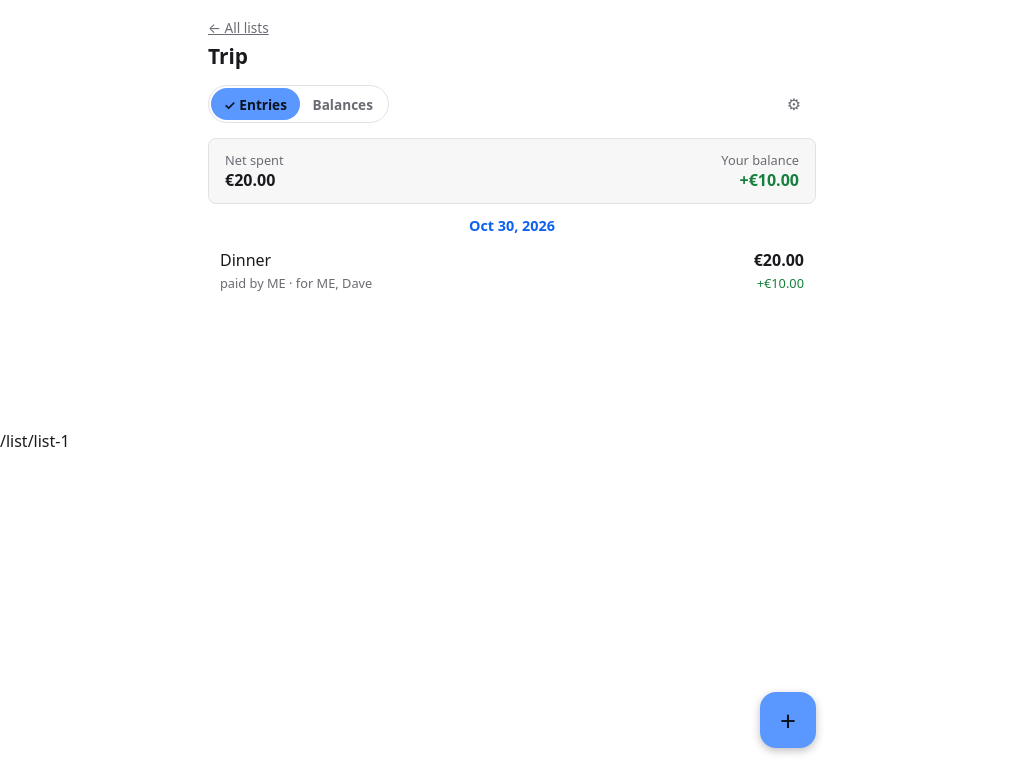
Scenario: the entry form with guests › names a guest in a refusal by its name, not its id
Click the button "Dinner".
click(246, 260)  # box [208,239,816,302]
(page scrolled)
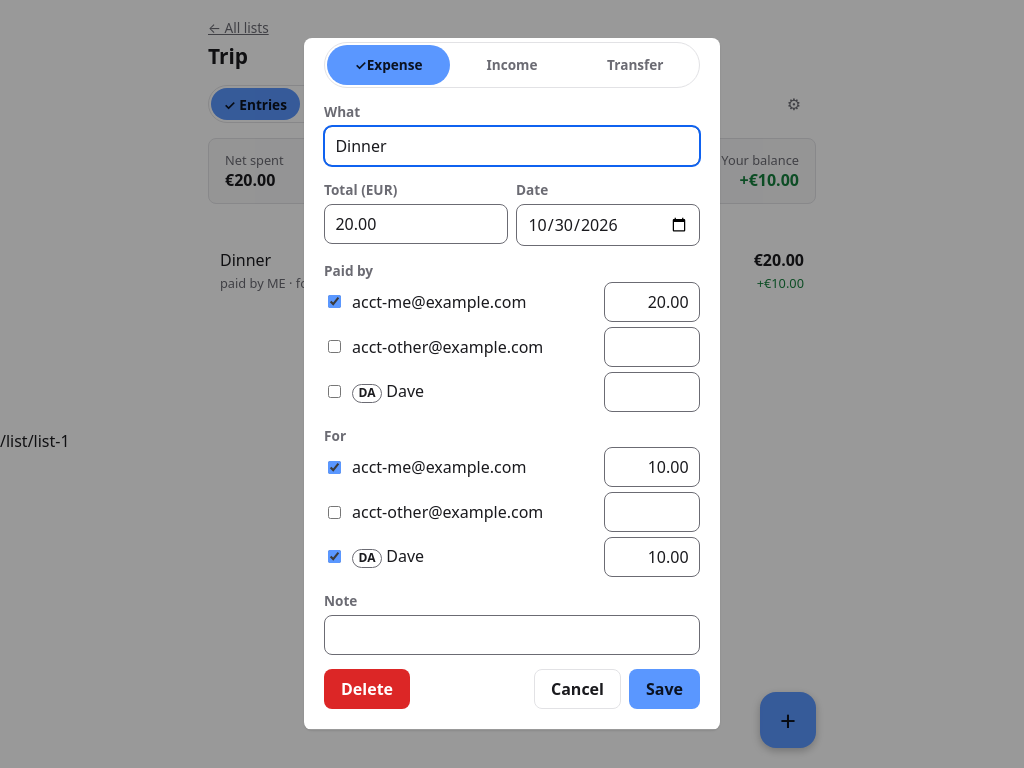
Click the button "Save".
click(664, 689)  # box [629,669,700,709]
(page scrolled)
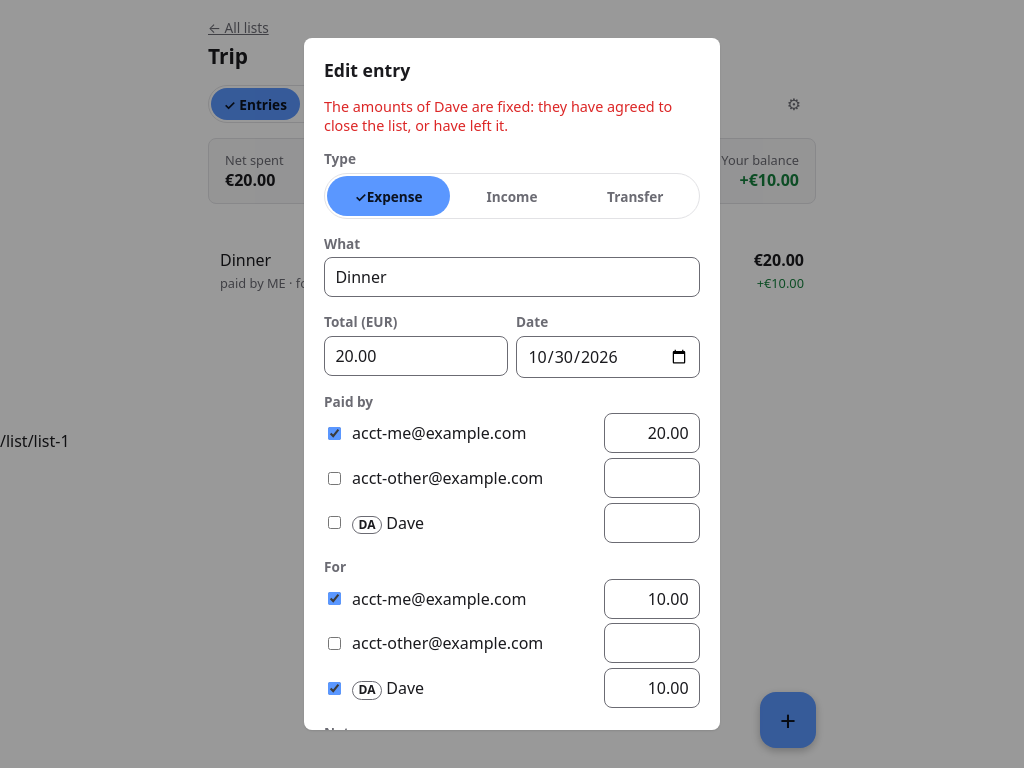
Result: the message shows "The amounts of Dave are fixed" at [324,97,672,135]
